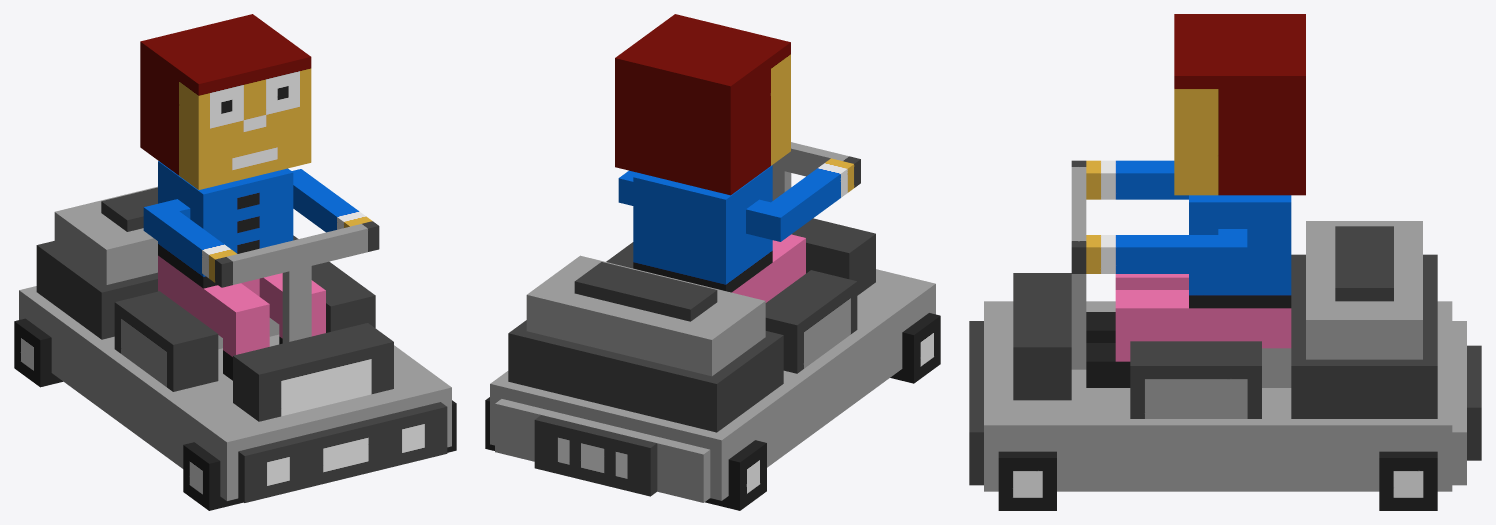
Rendered from Character_4.fbx.
3 renders of one model, left to right at view 1: azimuth 30°, elevation 25°; view 2: azimuth 150°, elevation 25°; view 3: azimuth 270°, elevation 25°, orthographic. The views are drawn at different scales.
Parts seen in each view (by area): view 1: Character_4; view 2: Character_4; view 3: Character_4.
Boxes of the visible parts, left/top/right/bottom form: Character_4: left=14, top=14, right=456, bottom=510; Character_4: left=485, top=14, right=940, bottom=510; Character_4: left=969, top=14, right=1481, bottom=510.
Size of the model in its own units: 22 by 30 by 35.
1 material, 1 textured.
